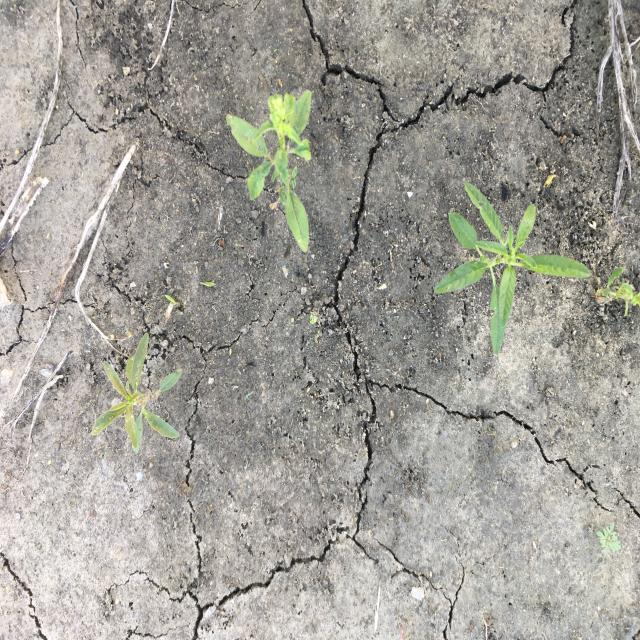Waterhemp: (432, 181, 593, 357), (225, 89, 313, 254), (90, 332, 184, 456)
